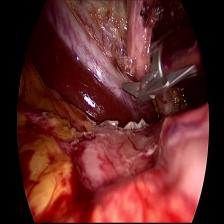Clipper: (120, 37, 198, 100)
